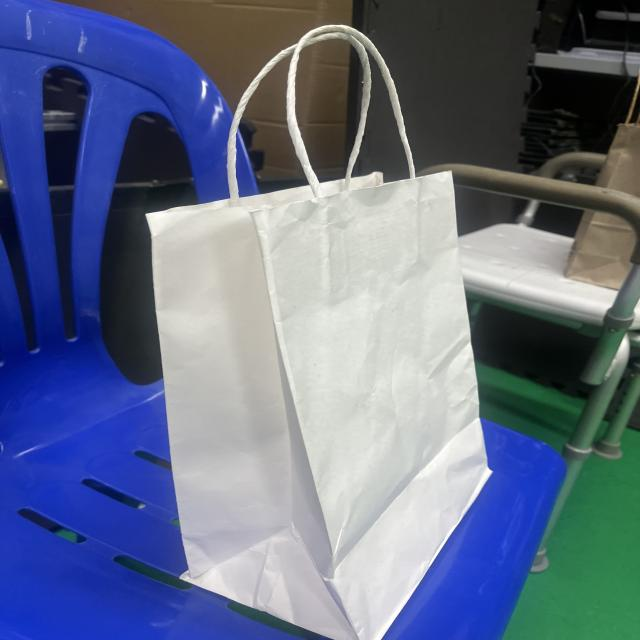paper bag: (138, 20, 500, 640)
